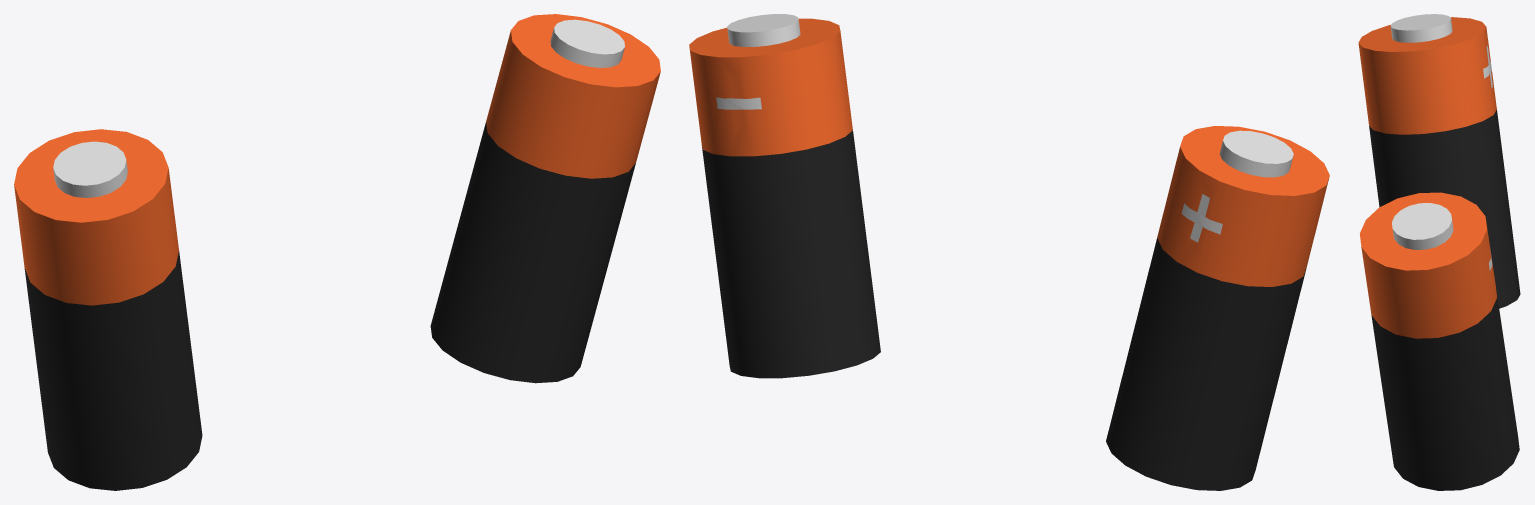
File: Batteries.fbx
3 views of the same model, side by side, from view 1: azimuth 30°, elevation 25°; view 2: azimuth 150°, elevation 25°; view 3: azimuth 270°, elevation 25° (orthographic). The views are drawn at different scales.
Visible parts, largest first — view 1: Cube.003, Cube.002; view 2: Cube.002, Cube.003; view 3: Cube.003, Cube.002.
Part boxes in pixels (x1,y1,x2,y2): Cube.003: (430,14,660,383); Cube.002: (14,129,202,490); Cube.002: (1106,126,1329,490); Cube.003: (689,14,880,378); Cube.003: (1359,192,1519,490); Cube.002: (1358,14,1520,308).
Bounding box in the file's own units: 146 × 75.17 × 39.42.
